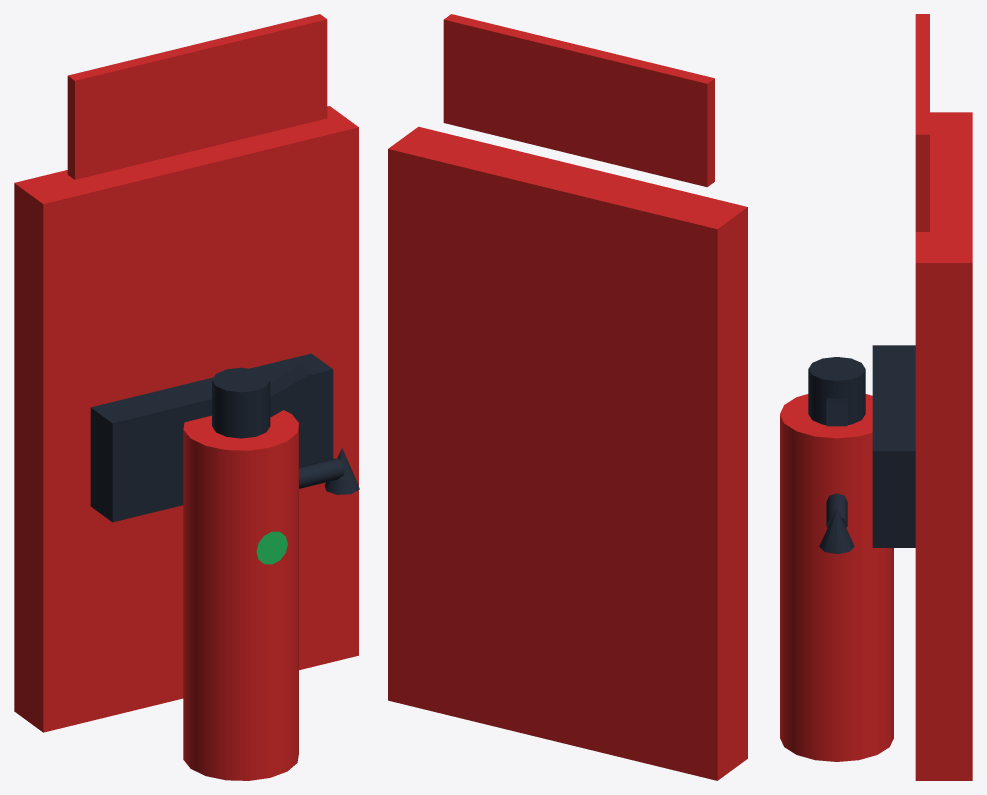
Rendered from yard-extinguisher-body-authored-atlas.glb.
The picture shows the model from 3 angles, left to right: view 1: azimuth 30°, elevation 25°; view 2: azimuth 150°, elevation 25°; view 3: azimuth 270°, elevation 25°; orthographic projection. The views are drawn at different scales.
Parts seen in each view (by area): view 1: Authored surface.035; view 2: Authored surface.035; view 3: Authored surface.035.
Part boxes in pixels (box(x1,y1,x2,y2)): Authored surface.035: box(14, 14, 359, 780); Authored surface.035: box(388, 14, 747, 780); Authored surface.035: box(780, 14, 972, 780).
Size of the model in its own units: 0.5 by 1.02 by 0.275.
1 material, 1 textured.
